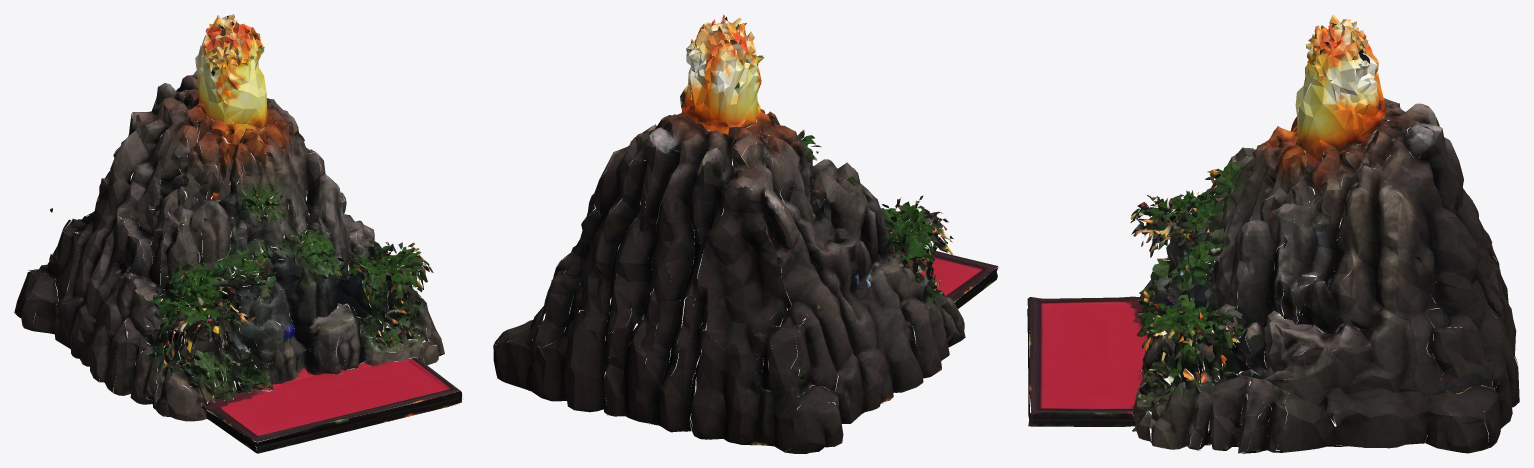
The model's file is 06_volcano_mountain.glb.
The picture shows the model from 3 angles, left to right: view 1: azimuth 30°, elevation 25°; view 2: azimuth 150°, elevation 25°; view 3: azimuth 270°, elevation 25°; orthographic projection. The views are drawn at different scales.
Parts seen in each view (by area): view 1: 06_volcano_mountain.ply; view 2: 06_volcano_mountain.ply; view 3: 06_volcano_mountain.ply.
Boxes of the visible parts, box(x1,y1,x2,y2) form: 06_volcano_mountain.ply: box(14, 14, 462, 453); 06_volcano_mountain.ply: box(493, 14, 998, 453); 06_volcano_mountain.ply: box(1027, 14, 1519, 453).
Size of the model in its own units: 0.8098 by 0.7888 by 0.999.
1 material, 1 textured.
